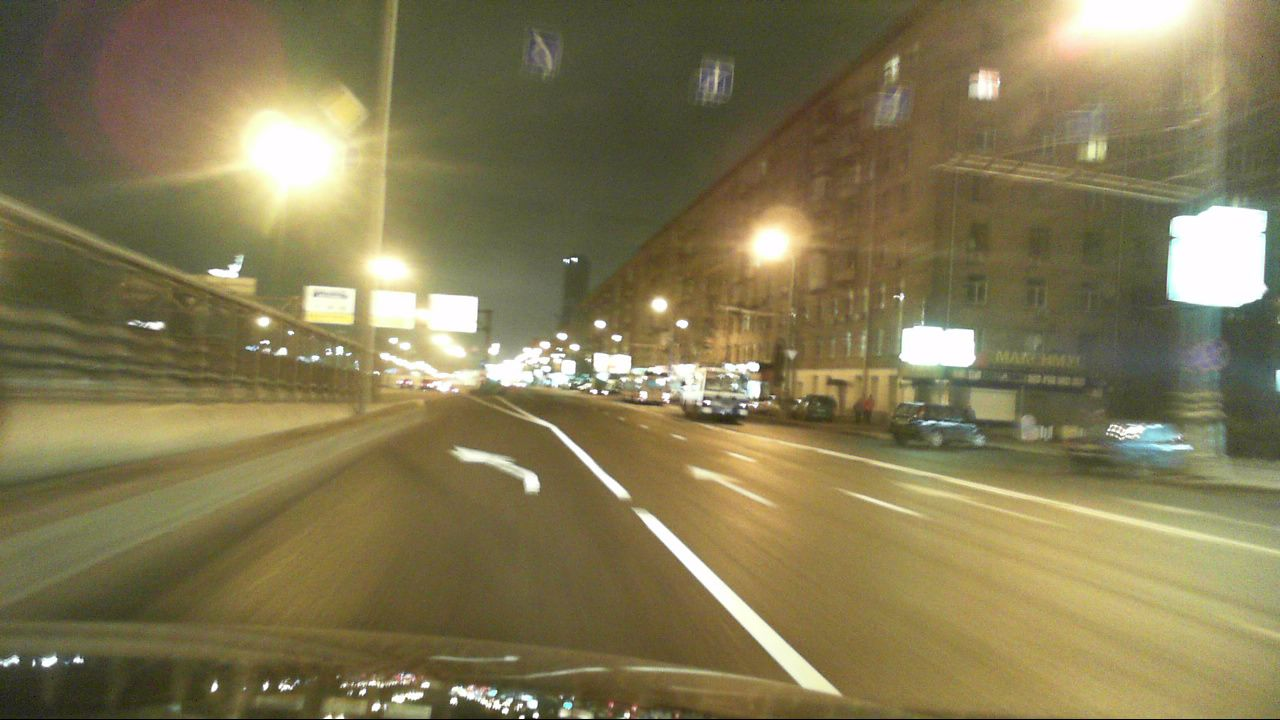No Parking: (1193, 340, 1222, 372)
